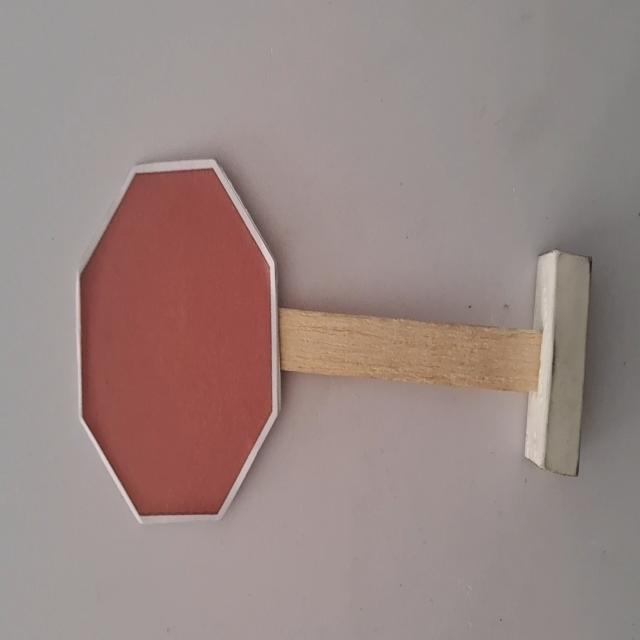Stop: (74, 153, 278, 524)
